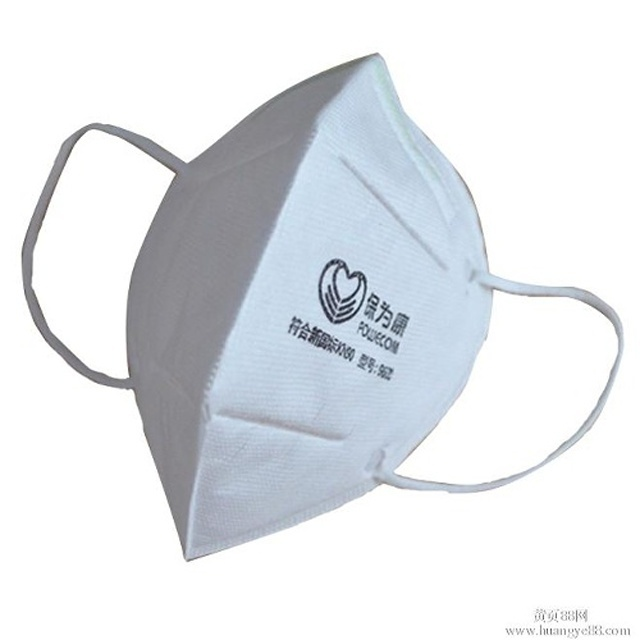mask: (20, 47, 629, 564)
